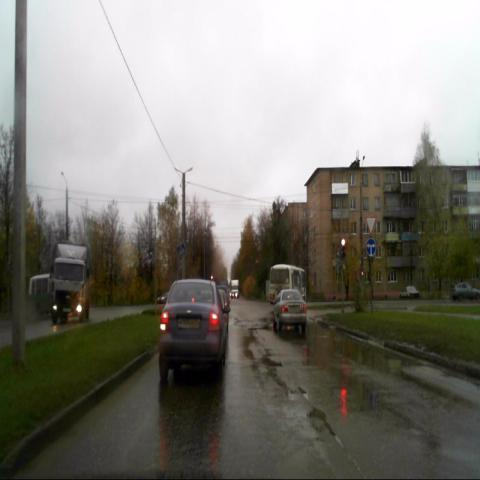2_4: (364, 215, 378, 235)
4_1_6: (365, 237, 376, 257)
